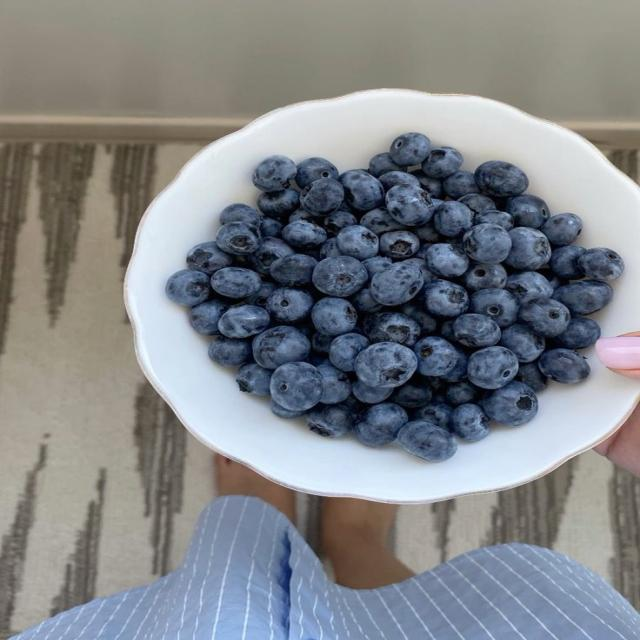blueberry: (355, 342, 417, 387), (270, 362, 323, 410), (483, 381, 538, 426), (253, 326, 310, 369), (398, 421, 457, 461), (355, 403, 408, 446), (371, 263, 424, 305), (313, 256, 367, 297), (468, 347, 518, 389), (554, 280, 613, 315), (463, 224, 514, 264), (504, 227, 551, 270), (474, 160, 528, 197), (520, 298, 570, 337), (386, 186, 433, 226), (471, 289, 519, 328), (365, 312, 420, 346), (339, 170, 384, 211), (500, 323, 545, 362), (414, 336, 457, 376), (312, 297, 357, 335), (248, 237, 294, 274), (539, 349, 589, 383), (424, 280, 469, 317), (219, 305, 269, 338), (300, 178, 344, 215), (166, 269, 210, 306), (267, 288, 313, 323), (328, 333, 369, 371), (453, 314, 500, 347), (211, 267, 261, 298), (187, 242, 233, 275), (336, 225, 379, 260), (253, 156, 296, 191), (506, 272, 553, 304), (307, 405, 353, 437), (317, 361, 351, 404), (270, 254, 317, 285), (507, 194, 549, 228), (554, 318, 600, 349), (578, 248, 624, 279), (216, 222, 259, 255), (434, 201, 473, 237), (426, 244, 468, 277), (452, 404, 489, 441), (390, 133, 431, 166), (295, 158, 338, 189), (541, 213, 582, 245), (189, 301, 227, 335), (422, 147, 463, 178), (208, 336, 251, 365), (392, 377, 432, 408), (463, 264, 507, 292), (282, 220, 326, 248), (400, 301, 437, 334), (236, 363, 272, 396), (550, 246, 586, 279), (360, 207, 403, 234), (258, 188, 299, 216), (380, 231, 419, 259), (443, 170, 479, 199), (410, 169, 445, 198), (414, 402, 453, 428), (516, 361, 547, 392), (353, 380, 393, 404), (440, 348, 468, 382), (220, 203, 261, 226), (445, 381, 481, 407), (369, 153, 406, 178), (324, 209, 357, 236), (404, 258, 437, 283), (350, 288, 382, 313), (379, 171, 419, 191), (474, 210, 513, 230), (246, 282, 277, 307), (459, 193, 495, 214), (271, 398, 305, 418), (341, 395, 367, 421), (416, 233, 441, 259), (362, 256, 392, 277), (311, 327, 333, 355), (412, 221, 439, 243), (319, 237, 341, 260), (260, 217, 283, 238), (296, 319, 314, 339), (548, 274, 568, 292), (288, 209, 313, 223), (440, 320, 455, 343)
